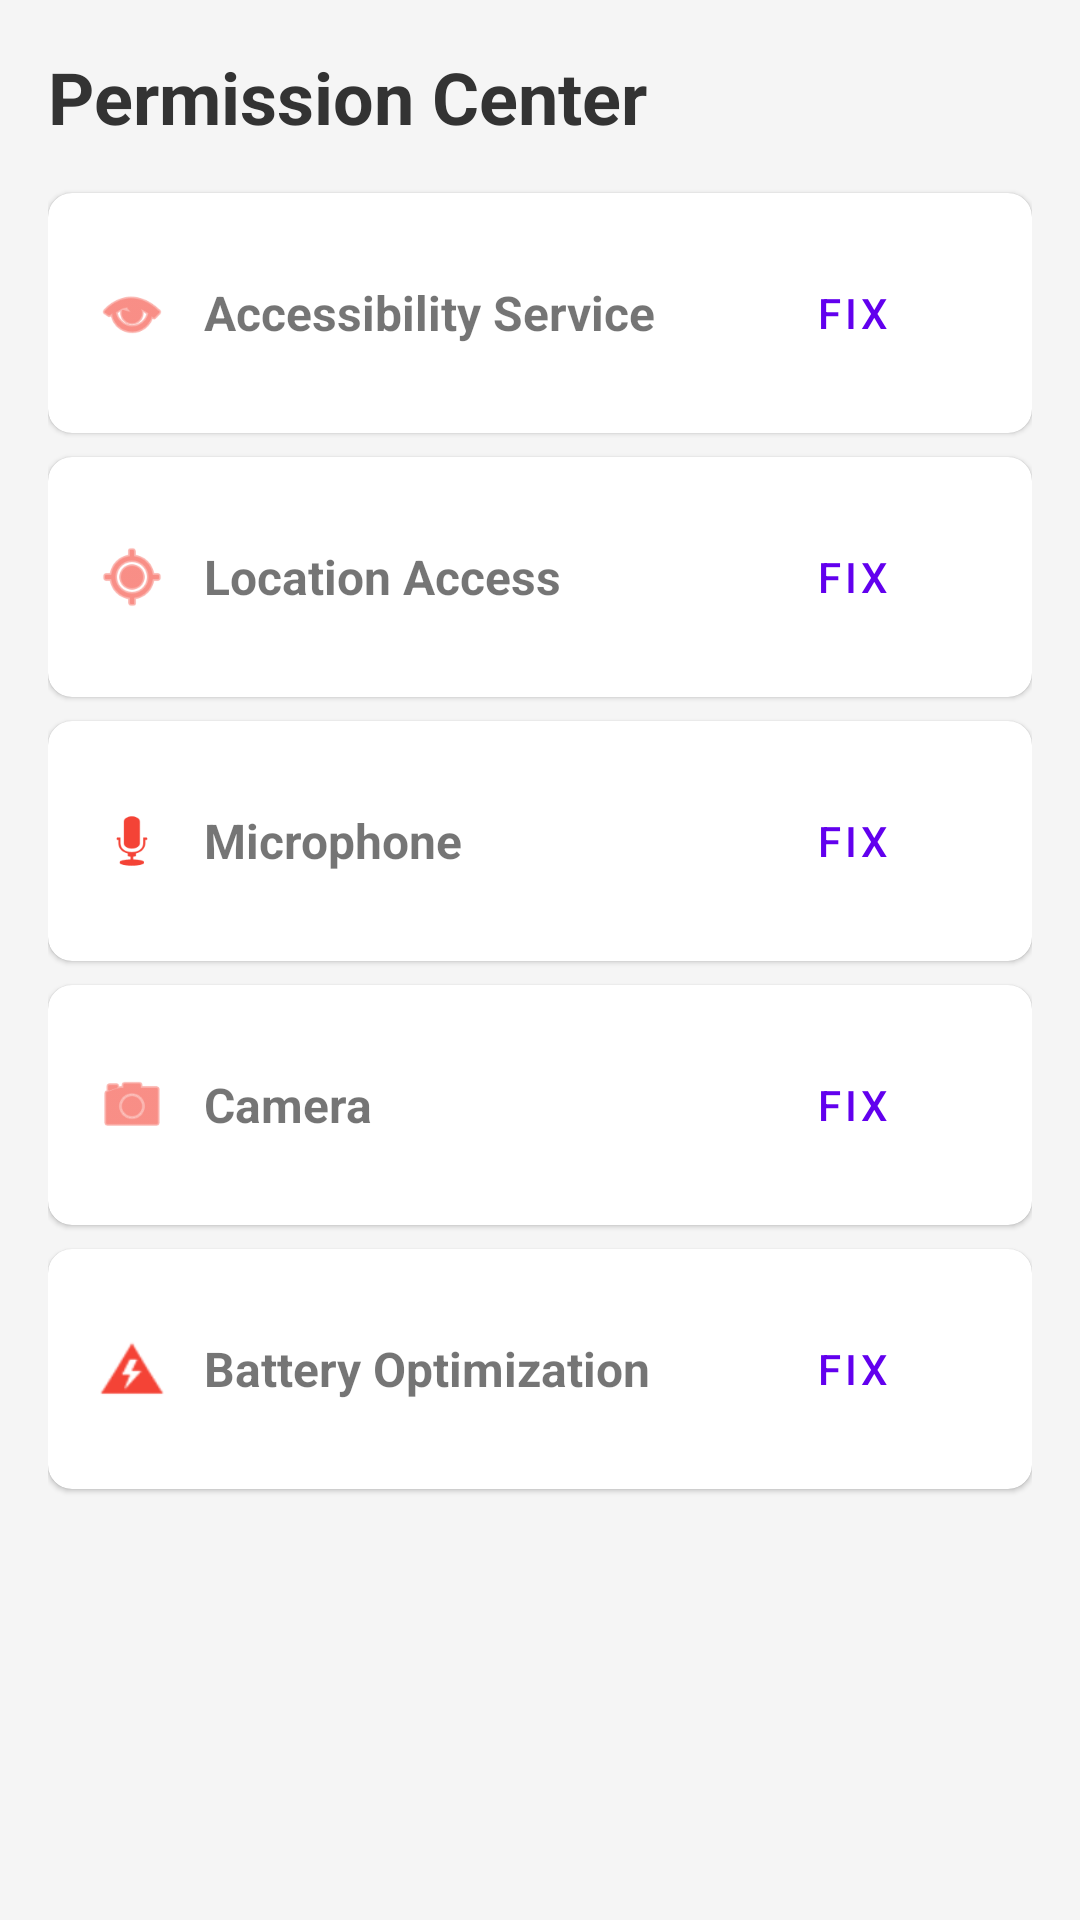

Screen size 1080px x 1920px. Icon name, then its center in pixels as (x,y):
lock idle low battery: (132,1368)
mylocation: (132,577)
speak now: (132,841)
view: (132,314)
